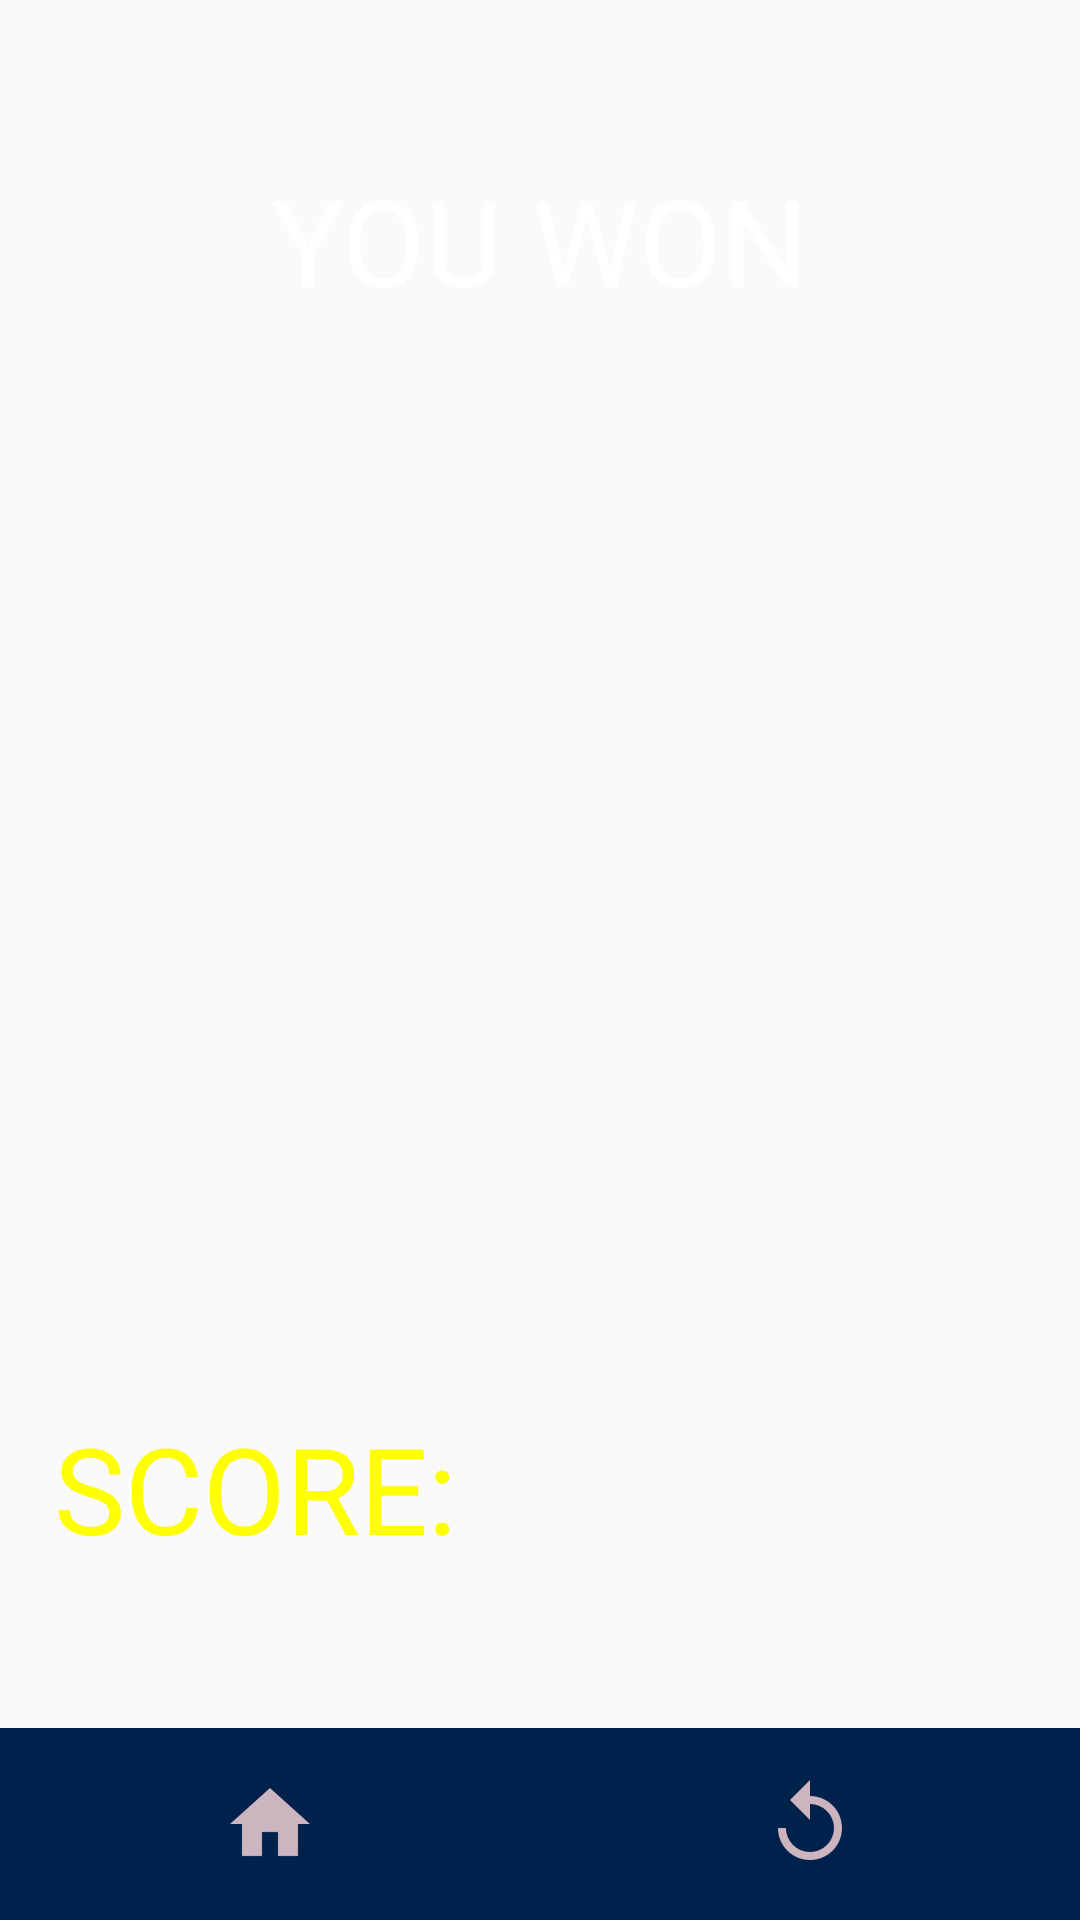

Icons on this 1080×1920 Android screen, each with the point to tap as (x=x, y=y):
home: (x=270, y=1822)
replay: (x=810, y=1820)
